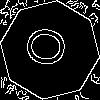O: (25, 25, 76, 70)
